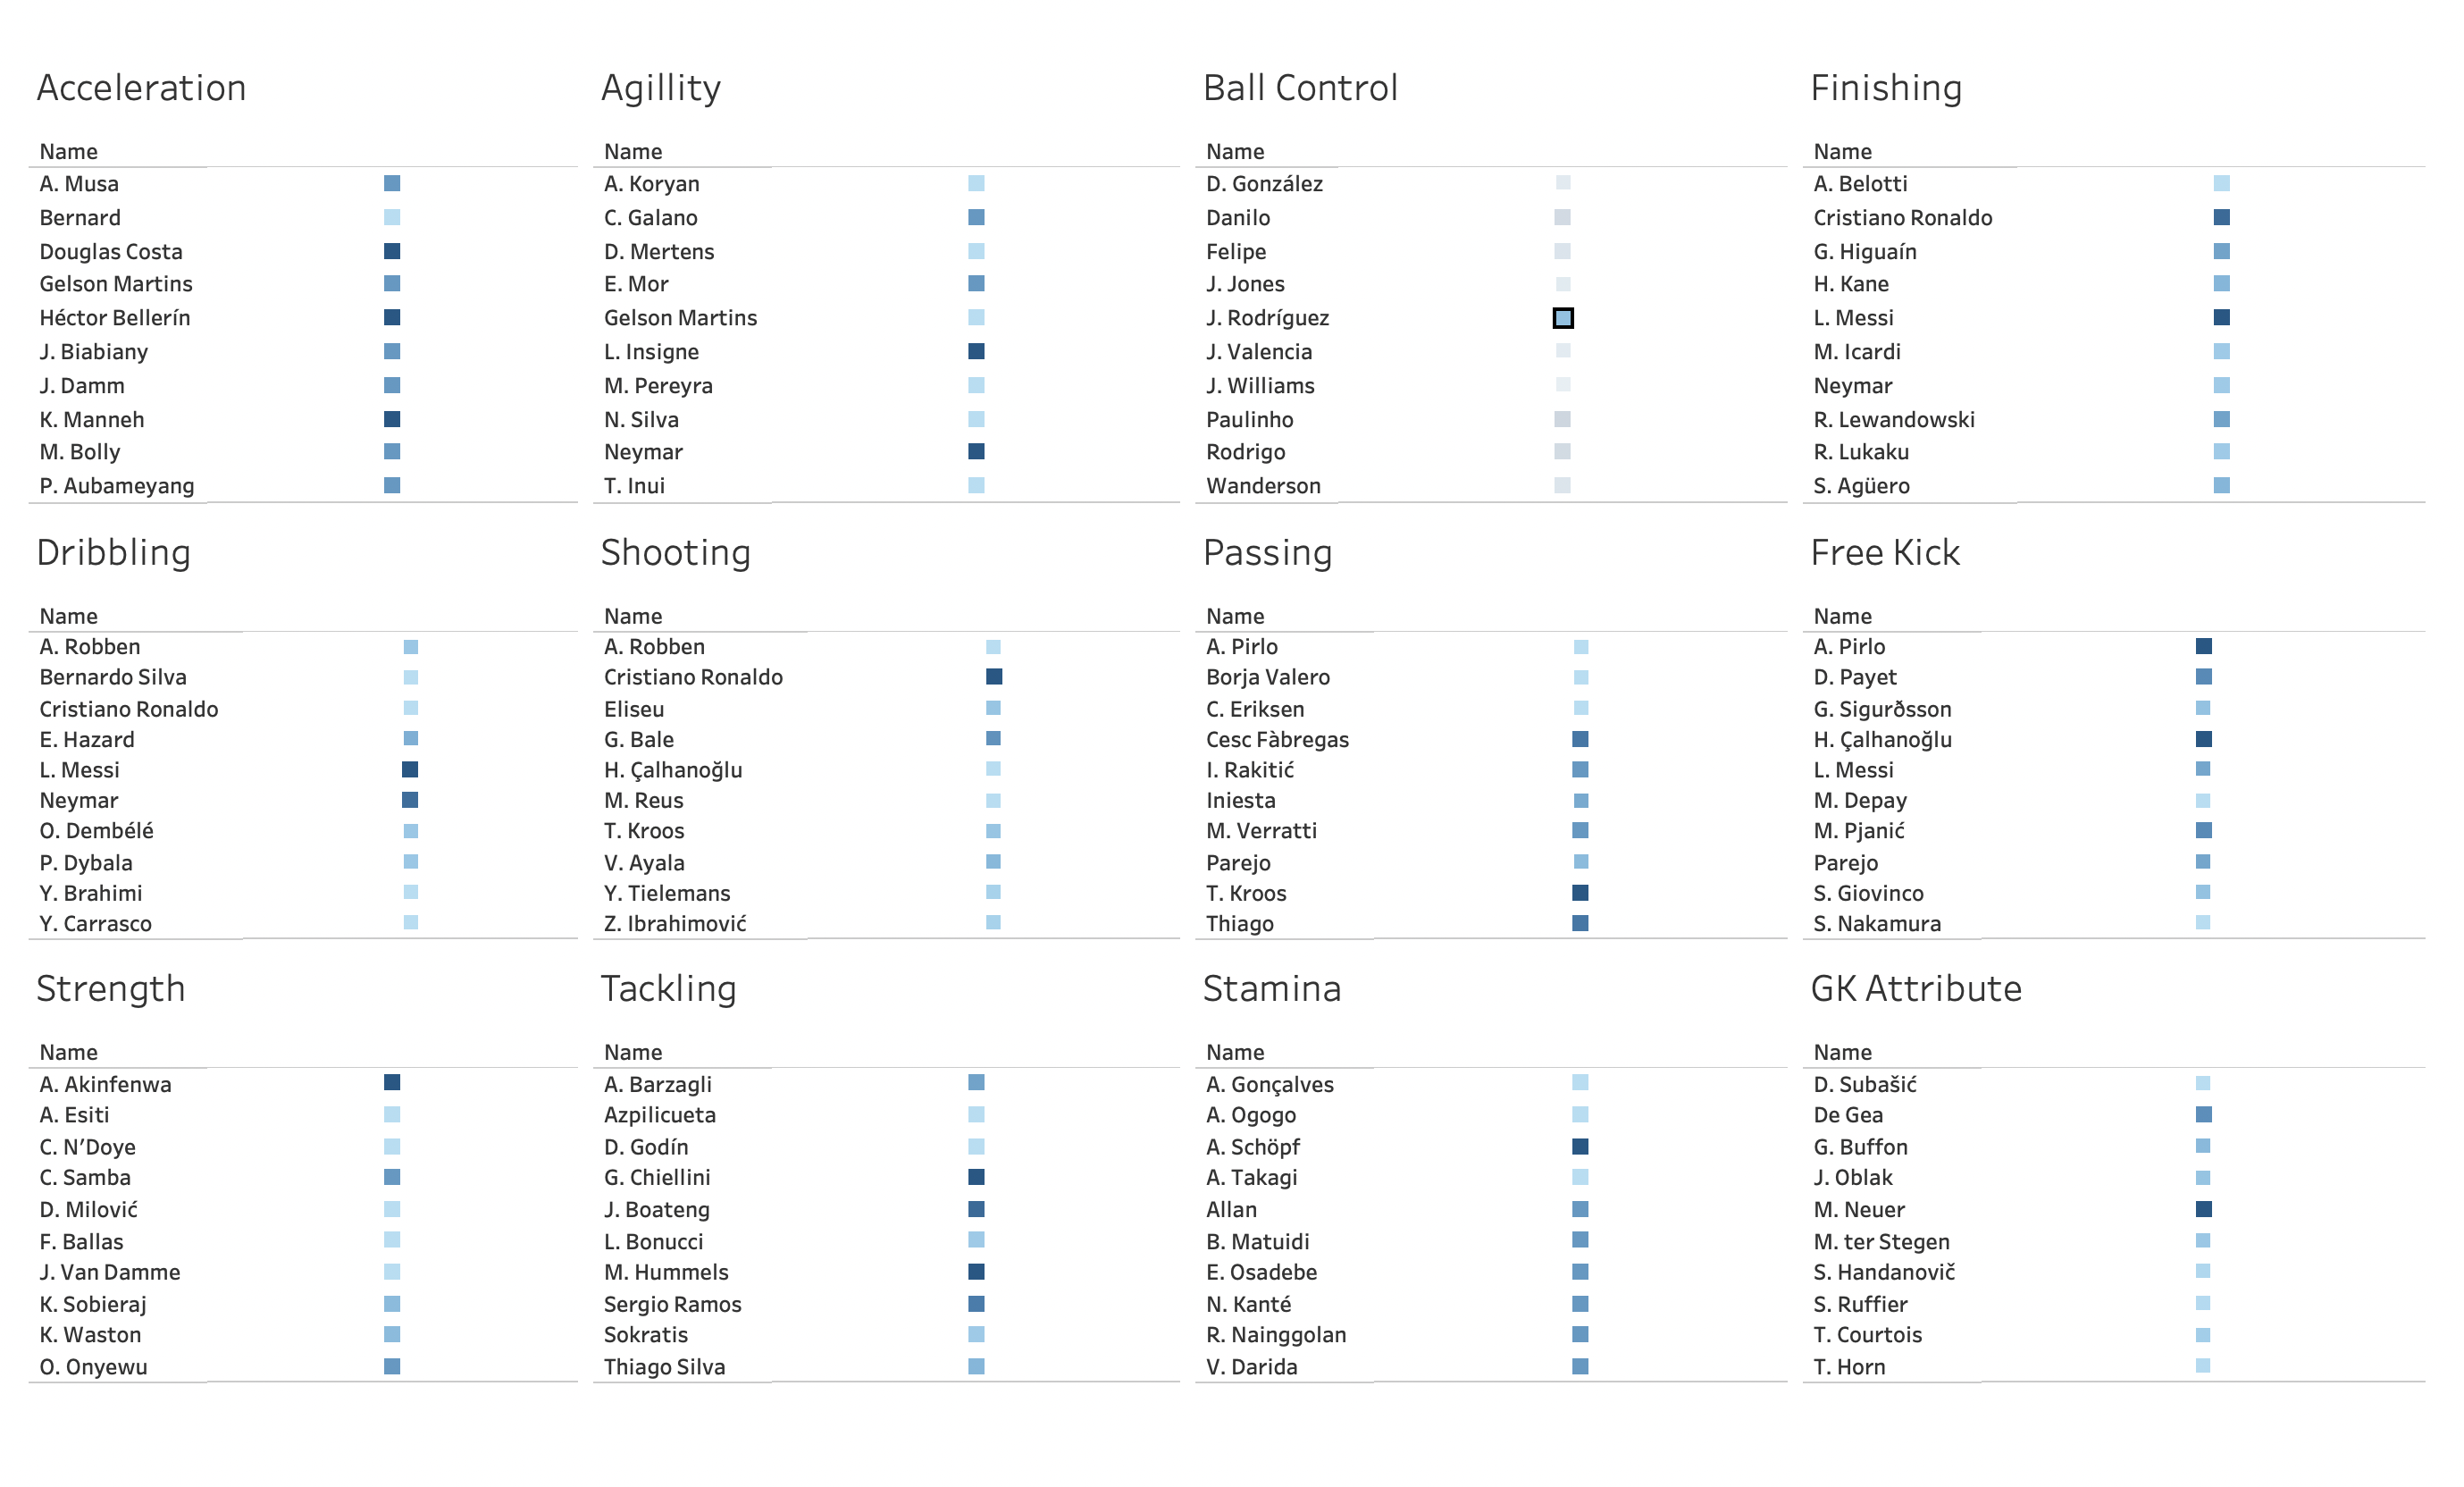

The dashboard page shown, as its layout file describes it:
{"tool":"tableau","page":{"name":"Dashboard 4","canvas":[1366,768],"ordinal":3},"visuals":[{"type":"worksheet","title":"Acceleration","mark":"Automatic","rows":["Name"],"box":[8,8,316,259.9]},{"type":"worksheet","title":"Agillity","mark":"Automatic","rows":["Name"],"box":[324,8,337,259.9]},{"type":"worksheet","title":"Ball Control","mark":"Automatic","rows":["Name"],"box":[661,8,340,259.9]},{"type":"worksheet","title":"Finishing","mark":"Automatic","rows":["Name"],"box":[1001,8,357,259.9]},{"type":"worksheet","title":"Dribbling","mark":"Automatic","rows":["Name"],"box":[8,267.9,315.5,243.6]},{"type":"worksheet","title":"Shooting","mark":"Automatic","rows":["Name"],"box":[323.6,267.9,337.5,243.6]},{"type":"worksheet","title":"Passing","mark":"Automatic","rows":["Name"],"box":[661,267.9,340.2,243.6]},{"type":"worksheet","title":"Free Kick","mark":"Automatic","rows":["Name"],"box":[1001.3,267.9,356.7,243.6]},{"type":"worksheet","title":"Strength","mark":"Automatic","rows":["Name"],"box":[8,511.5,315.5,248.5]},{"type":"worksheet","title":"Tackling","mark":"Automatic","rows":["Name"],"box":[323.6,511.5,337.5,248.5]},{"type":"worksheet","title":"Stamina","mark":"Automatic","rows":["Name"],"box":[661,511.5,340.2,248.5]},{"type":"worksheet","title":"GK Attribute","mark":"Automatic","rows":["Name"],"box":[1001.3,511.5,356.7,248.5]}]}

Visuals, with their boxes on the page's 1366x768 design canvas (x1, y1, x2, y2). These are canvas units, not pixel positions in the 2464x1487 screenshot, which may show the page scaled, cropped or inside an application window:
"Acceleration" worksheet: (8, 8, 324, 268)
"Agillity" worksheet: (324, 8, 661, 268)
"Ball Control" worksheet: (661, 8, 1001, 268)
"Finishing" worksheet: (1001, 8, 1358, 268)
"Dribbling" worksheet: (8, 268, 324, 512)
"Shooting" worksheet: (324, 268, 661, 512)
"Passing" worksheet: (661, 268, 1001, 512)
"Free Kick" worksheet: (1001, 268, 1358, 512)
"Strength" worksheet: (8, 512, 324, 760)
"Tackling" worksheet: (324, 512, 661, 760)
"Stamina" worksheet: (661, 512, 1001, 760)
"GK Attribute" worksheet: (1001, 512, 1358, 760)
